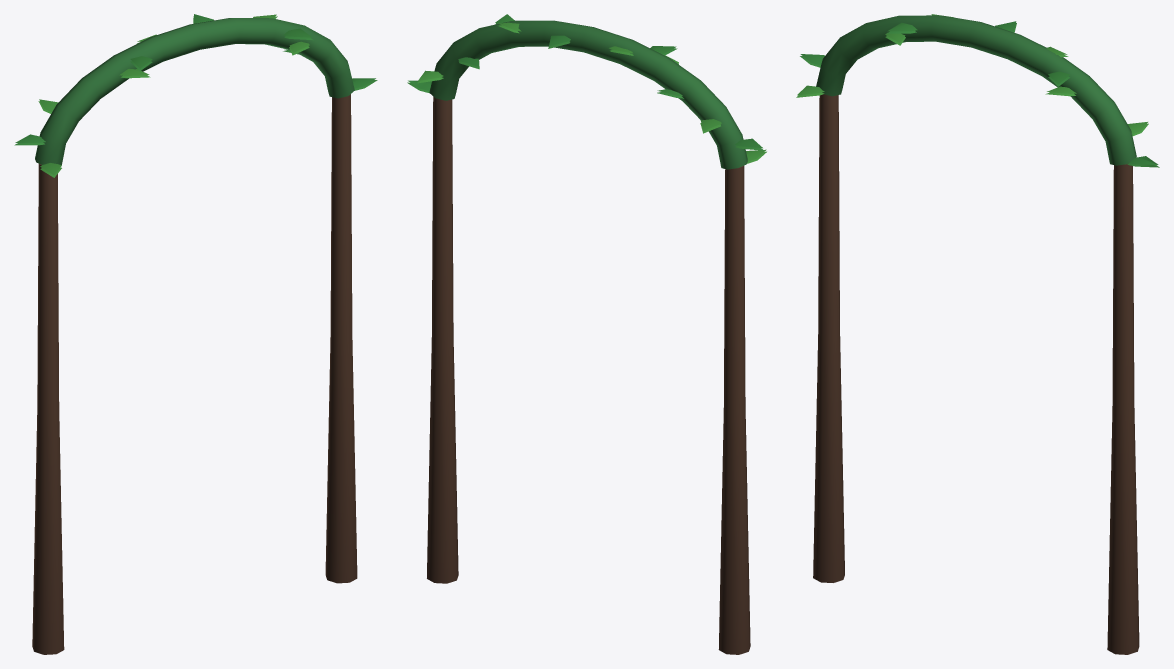
Rendered from fe-arch.glb.
3 renders of one model, left to right at view 1: azimuth 30°, elevation 25°; view 2: azimuth 150°, elevation 25°; view 3: azimuth 330°, elevation 25°, orthographic.
Parts seen in each view (by area): view 1: fe-arch; view 2: fe-arch; view 3: fe-arch.
Part boxes in pixels (bbox=[...]): fe-arch: bbox=[14, 14, 377, 654]; fe-arch: bbox=[407, 14, 766, 654]; fe-arch: bbox=[796, 14, 1159, 654].
Size of the model in its own units: 1.48 by 2.3 by 0.287.
